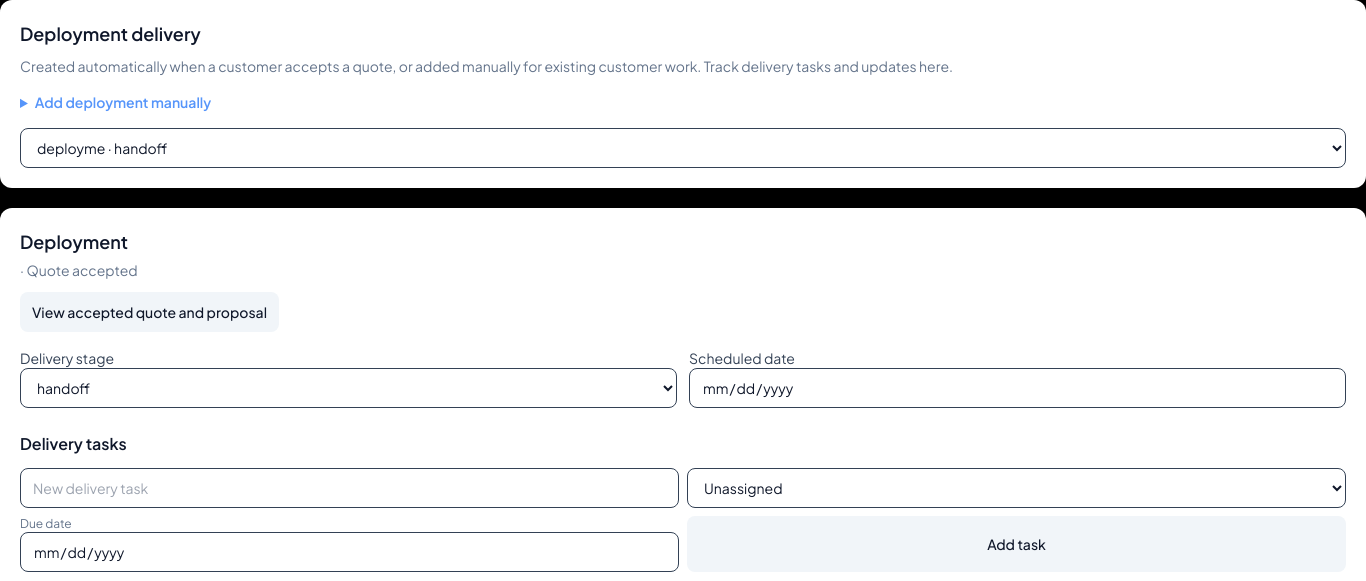
quote and deployment controls › celebrates deployment completion only with confirmed persistence (success=false)
Select "completed" in the dropdown labelled "Delivery stage" at (348, 388), box [20,368,677,408]
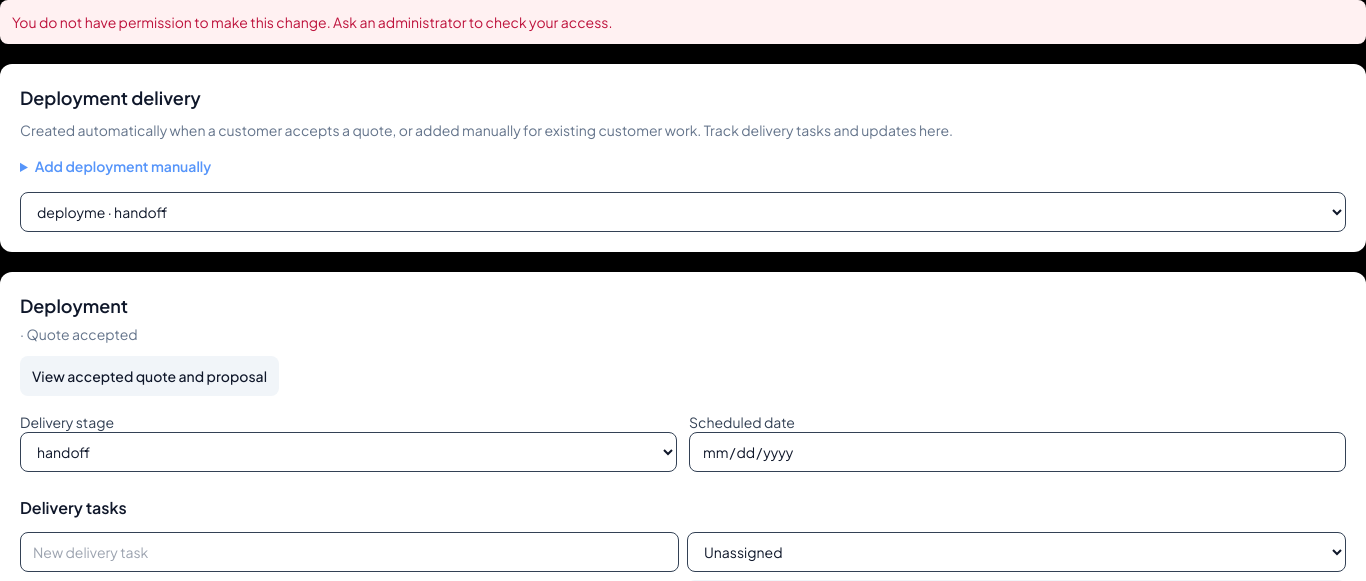
Expected: the message shows "Ask an administrator", [12,13,612,31]
